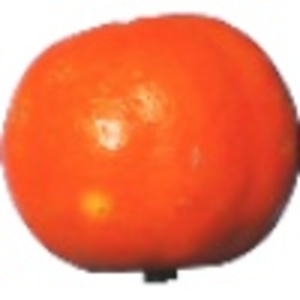tangerina: (1, 11, 300, 282)
